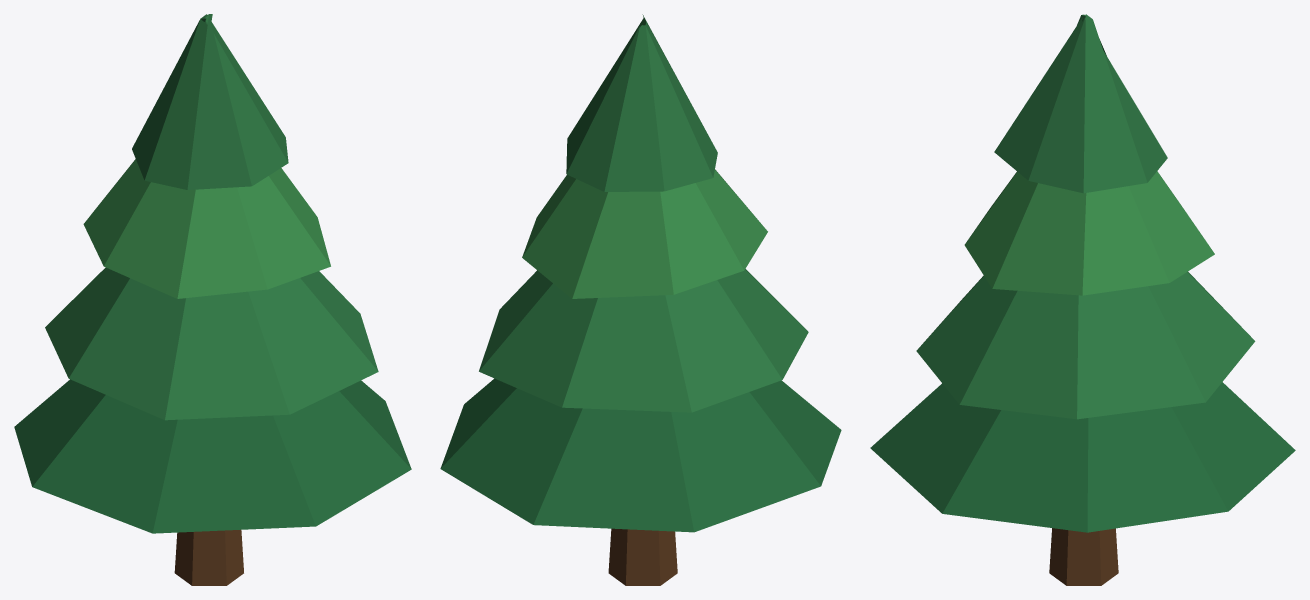
File: prop_tree_pine_v01.glb
The picture shows the model from 3 angles, left to right: view 1: azimuth 30°, elevation 25°; view 2: azimuth 150°, elevation 25°; view 3: azimuth 270°, elevation 25°; orthographic projection.
Parts seen in each view (by area): view 1: prop_tree_pine_v01; view 2: prop_tree_pine_v01; view 3: prop_tree_pine_v01.
Boxes of the visible parts, box(x1,y1,x2,y2) form: prop_tree_pine_v01: box(14, 14, 411, 585); prop_tree_pine_v01: box(440, 14, 841, 585); prop_tree_pine_v01: box(870, 14, 1295, 585).
Size of the model in its own units: 2.96 by 4.44 by 3.07.
